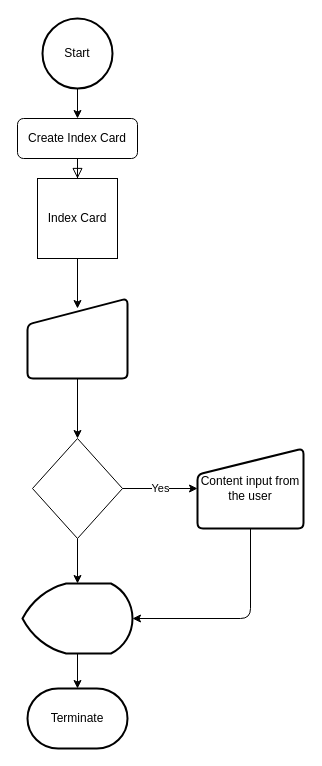
The diagram is 322 pixels wide and 766 high, and some of its shapes have lost their labels. Each missing label, with the centre of its shape:
"Display Index Cards on the Whiteboard" belongs at (x=77, y=618).
"Title of the Index Card" belongs at (x=77, y=338).
"Write content" belongs at (x=77, y=488).
